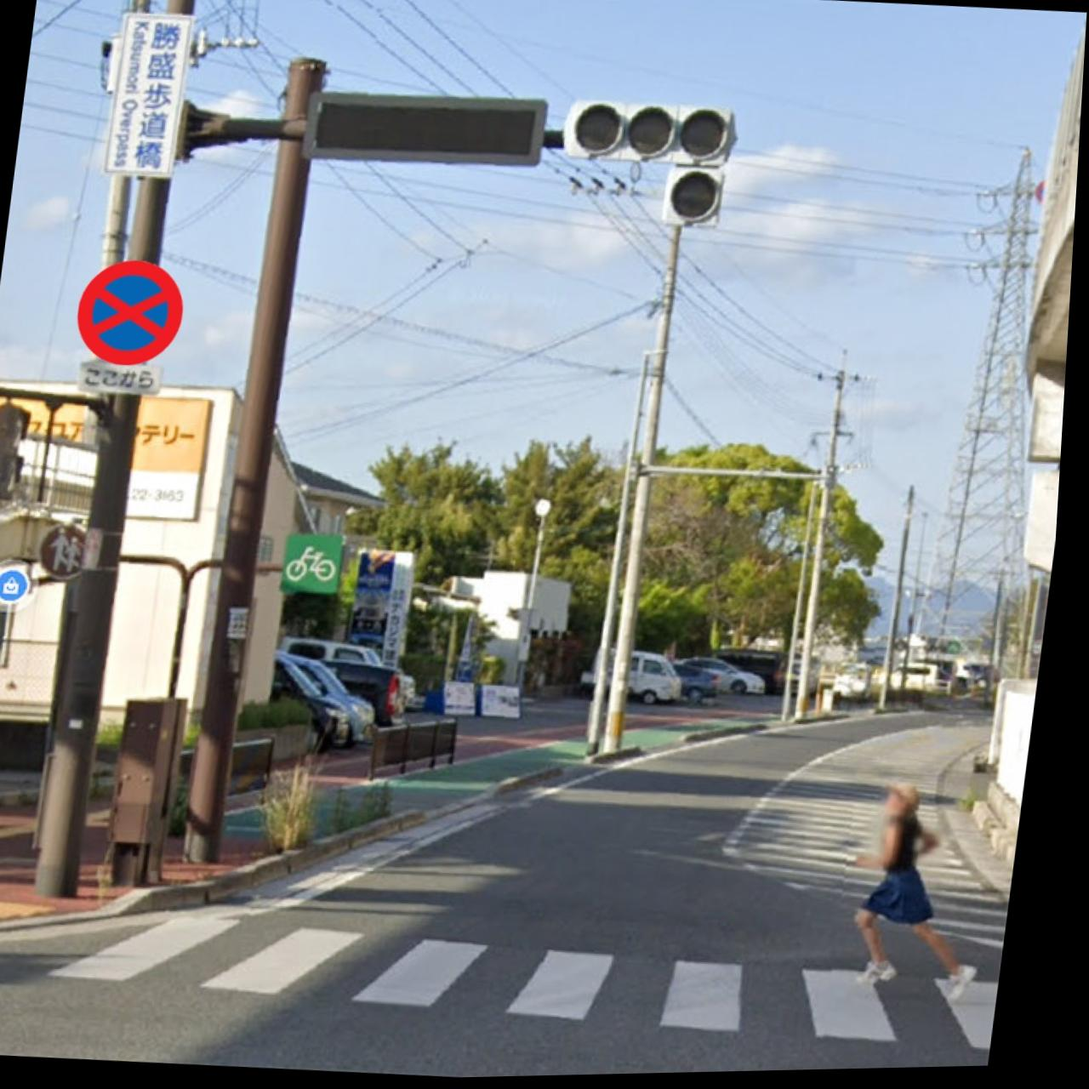stop_sign: (72, 254, 192, 371)
